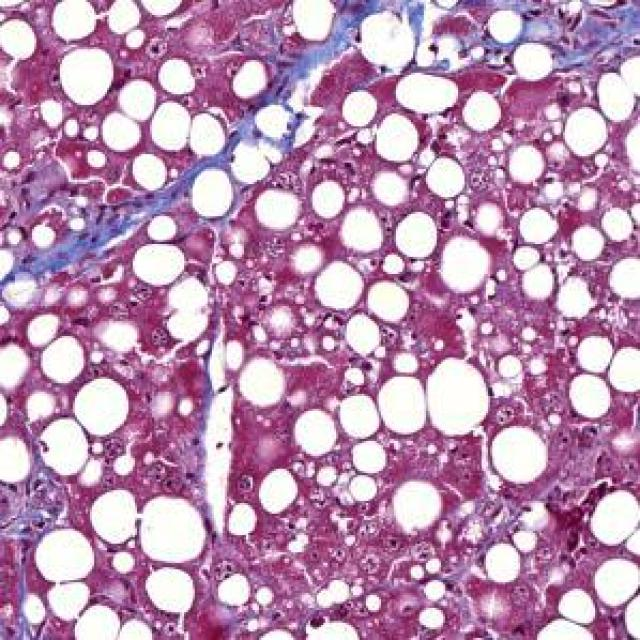fibrosis: (51, 188, 190, 270), (569, 15, 636, 64)
